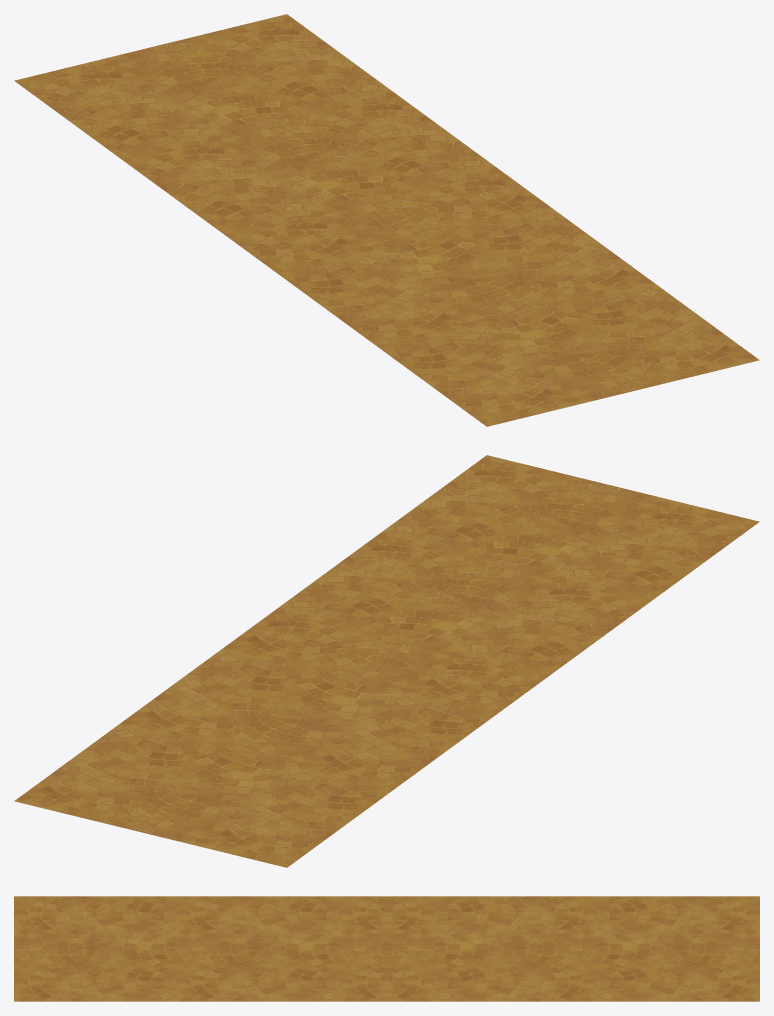
File: TheLivingGarden_DemoScene.glb
The picture shows the model from 3 angles, top to bottom: view 1: azimuth 30°, elevation 25°; view 2: azimuth 150°, elevation 25°; view 3: azimuth 270°, elevation 25°; orthographic projection. The views are drawn at different scales.
Visible parts, largest first — view 1: Plane.065; view 2: Plane.065; view 3: Plane.065.
Boxes of the visible parts, box(x1,y1,x2,y2) form: Plane.065: box(14, 14, 759, 426); Plane.065: box(14, 455, 759, 867); Plane.065: box(14, 896, 759, 1001).
Bounding box in the file's own units: 16 × 0 × 48.
1 material, 1 textured.
